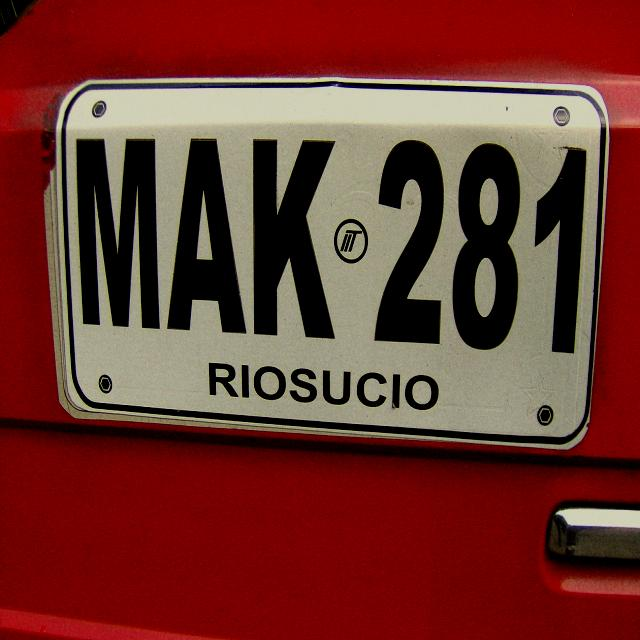particular: (48, 59, 617, 452)
